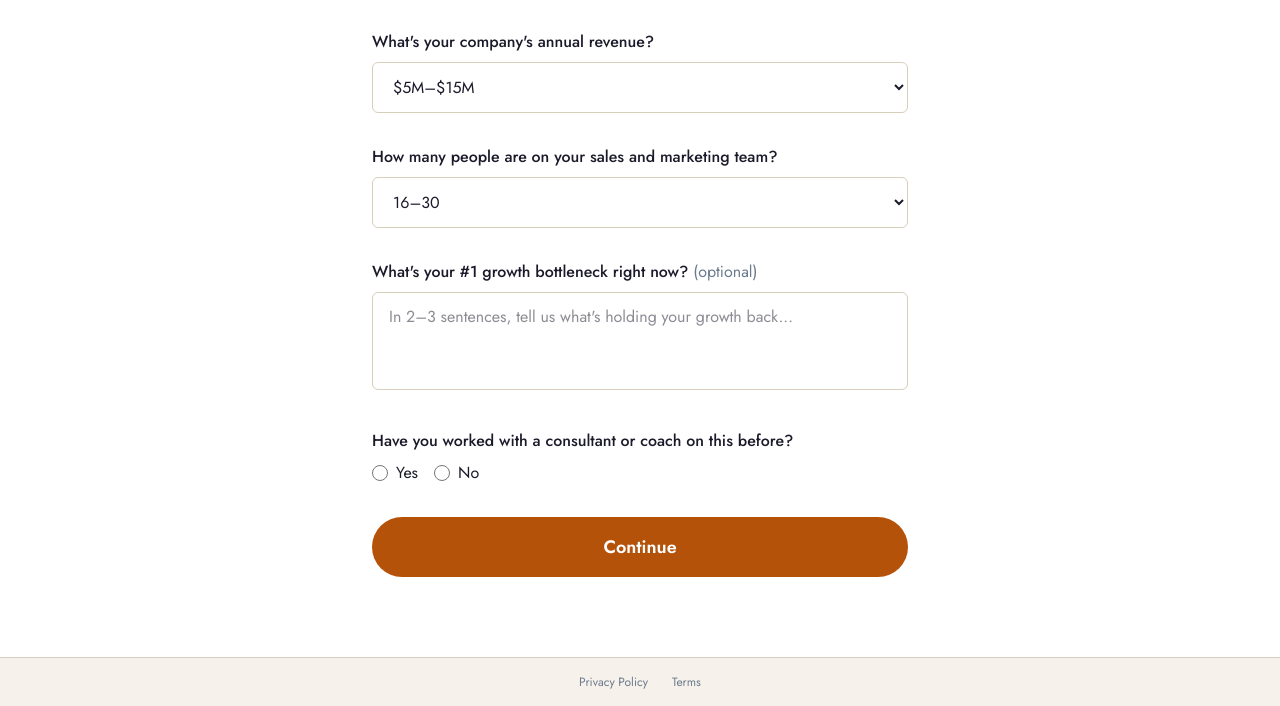
Test case: BookPageClient scan prefill › lets query params win over the stored scan lead
(page scrolled)
Click the button "Continue". click: [640, 547]
box: [372,517,908,577]
(page scrolled)
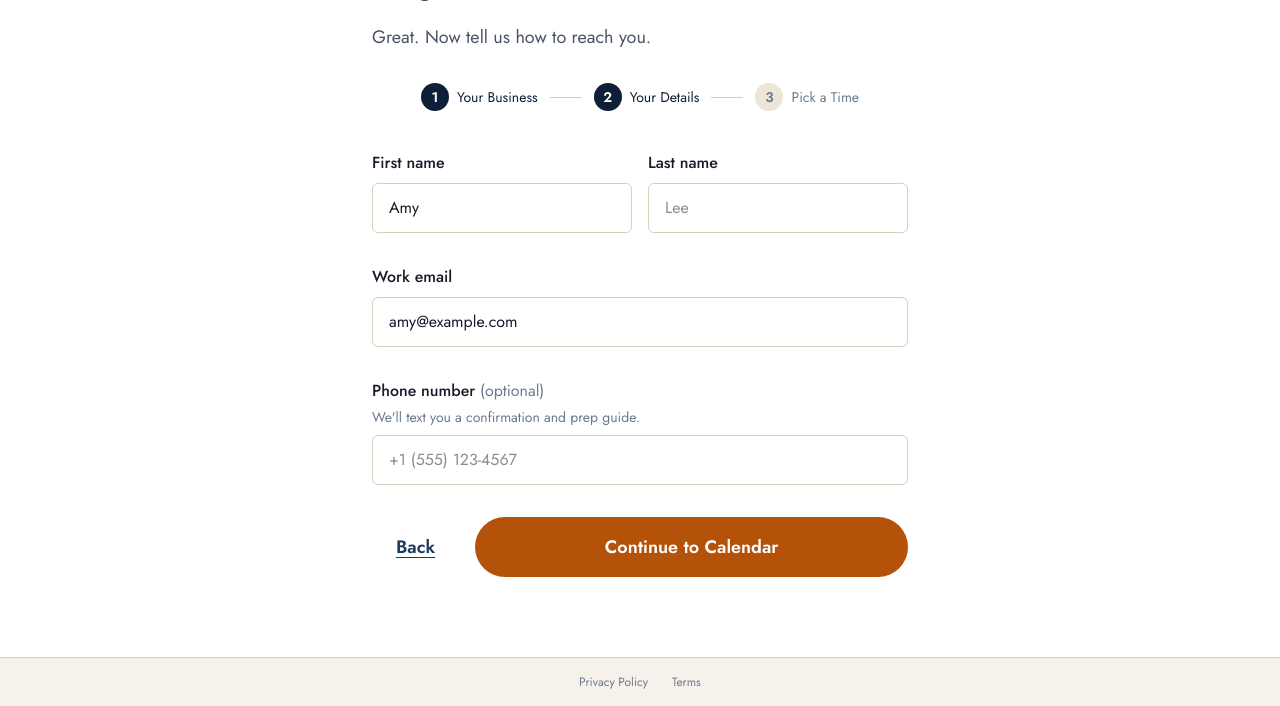
Expected: the field named "firstName" below "First name" holds "Amy", [372,183,632,233]
Expected: the field named "email" below "Work email" holds "amy@example.com", [372,297,908,347]
